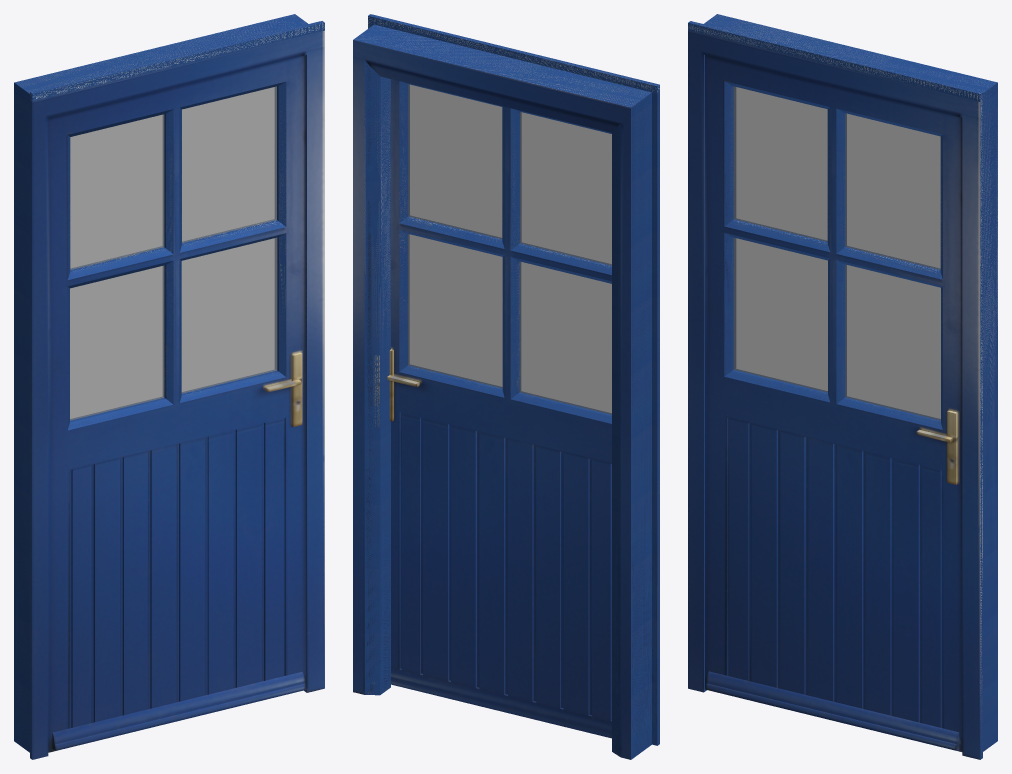
The model's file is door.dae.
3 views of the same model, side by side, from view 1: azimuth 30°, elevation 25°; view 2: azimuth 150°, elevation 25°; view 3: azimuth 330°, elevation 25° (orthographic).
Parts seen in each view (by area): view 1: group_0 (×11), group_2 (×2), group_1; view 2: group_0 (×11), group_2 (×2); view 3: group_0 (×11), group_2 (×2), group_1.
Boxes of the visible parts, <box> form: group_0 (×11): <box>48,55,306,752</box>; group_2 (×2): <box>14,14,324,759</box>; group_1: <box>52,671,305,750</box>; group_0 (×11): <box>387,79,611,738</box>; group_2 (×2): <box>353,14,659,759</box>; group_0 (×11): <box>705,55,962,751</box>; group_2 (×2): <box>688,14,997,759</box>; group_1: <box>706,671,959,750</box>.
Size of the model in its own units: 49.81 by 8.01 by 108.
3 materials, 2 textured.
